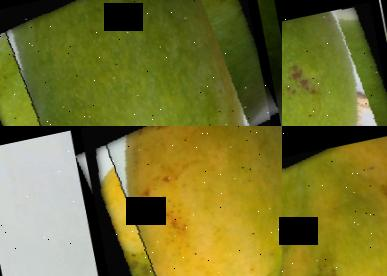PartiallyRipe: (75, 126, 282, 276), (282, 126, 387, 276)
Unripe: (0, 0, 279, 126), (282, 1, 387, 126)
